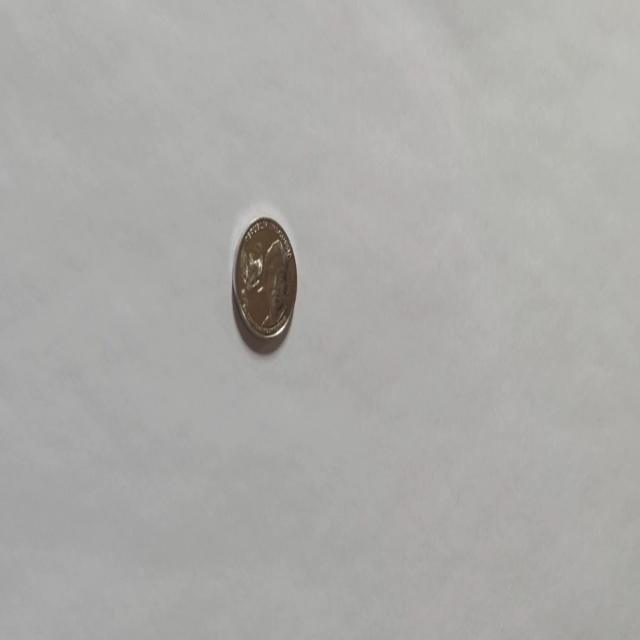dua ratus rupiah: (230, 215, 298, 342)
